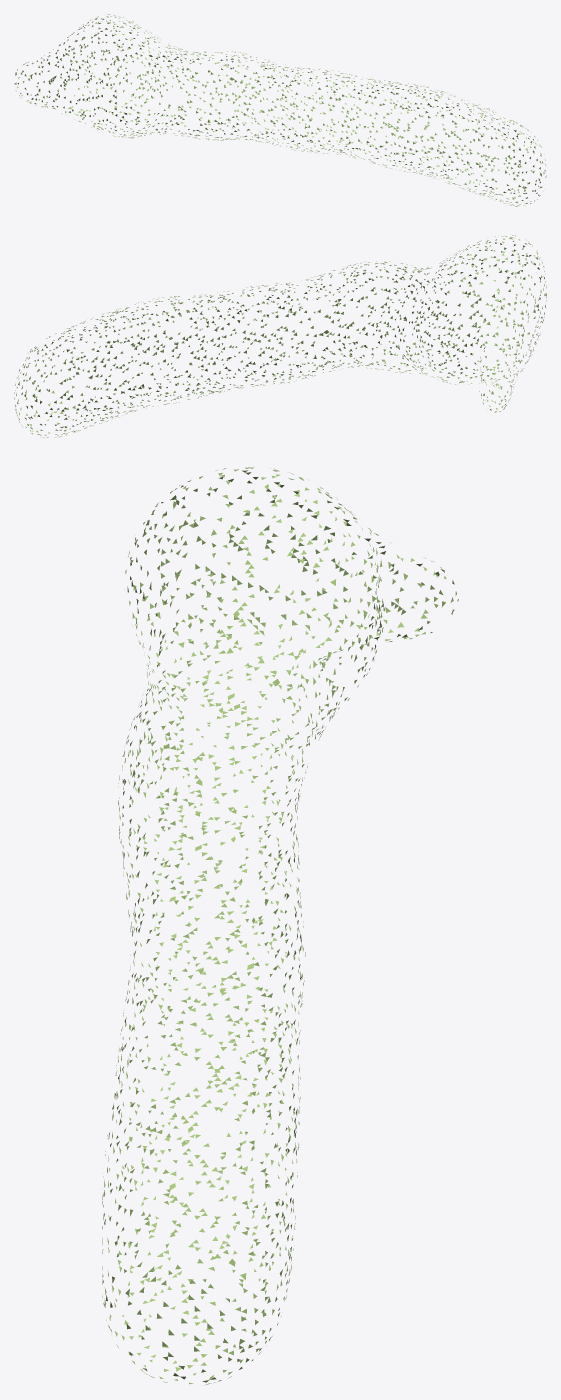
File: morph_012.glb
3 renders of one model, top to bottom at view 1: azimuth 30°, elevation 25°; view 2: azimuth 150°, elevation 25°; view 3: azimuth 270°, elevation 25°, orthographic. The views are drawn at different scales.
Size of the model in its own units: 121 by 67.1 by 40.86.
